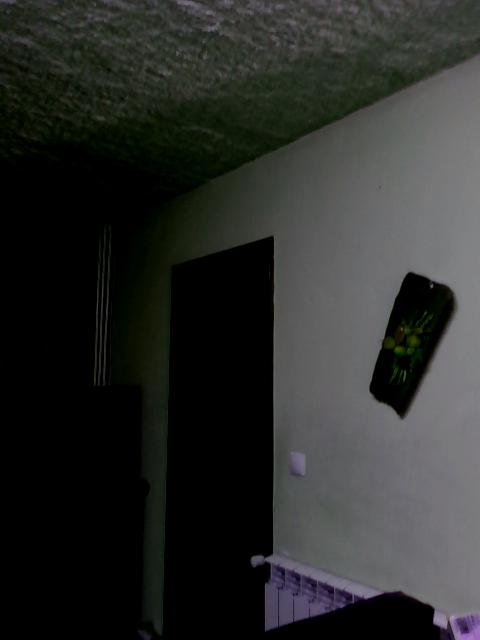closed_door: (163, 235, 274, 638)
